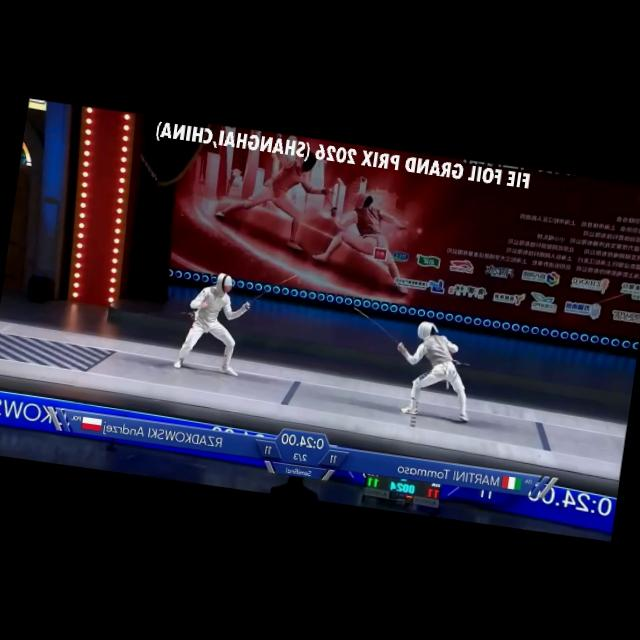blade: (238, 266, 300, 320), (346, 305, 409, 351)
